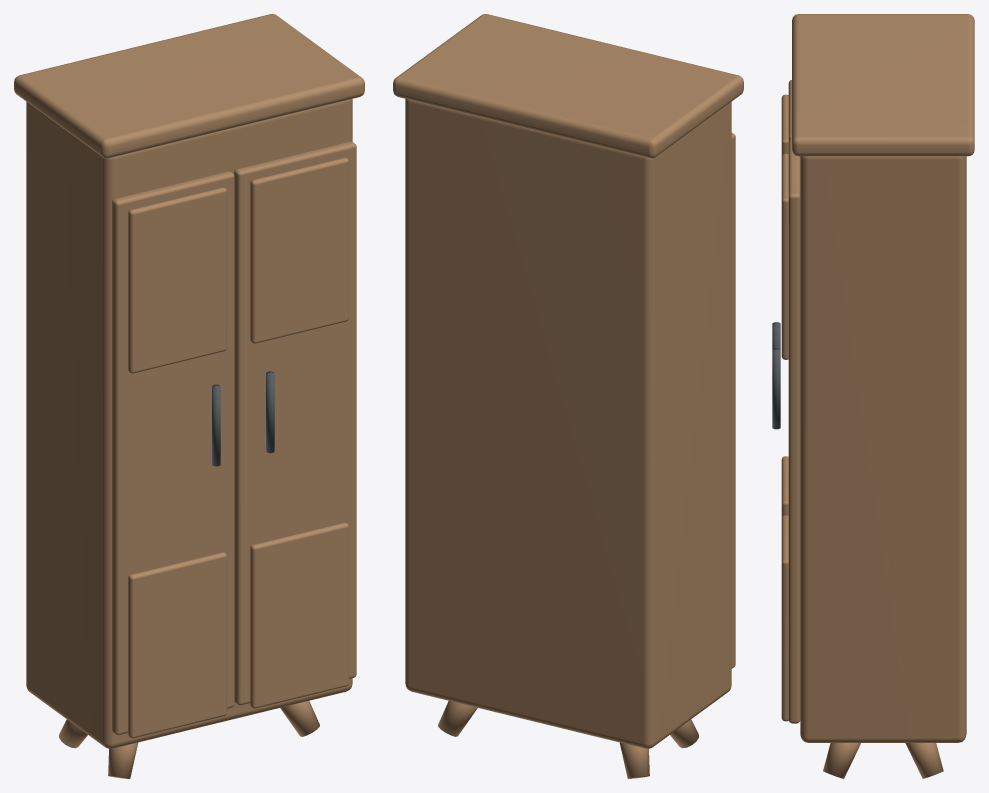
The model's file is atelier-bathroom-storage-cabinet.glb.
3 renders of one model, left to right at view 1: azimuth 30°, elevation 25°; view 2: azimuth 150°, elevation 25°; view 3: azimuth 270°, elevation 25°, orthographic.
Parts seen in each view (by area): view 1: legs.168, metal.132; view 2: legs.168; view 3: legs.168, metal.132.
Boxes of the visible parts, left/top/right/bottom form: legs.168: left=14, top=14, right=364, bottom=778; metal.132: left=212, top=371, right=274, bottom=466; legs.168: left=393, top=14, right=743, bottom=778; legs.168: left=781, top=14, right=974, bottom=778; metal.132: left=772, top=322, right=780, bottom=429.
Bounding box in the file's own units: 0.635 × 1.53 × 0.4265.
